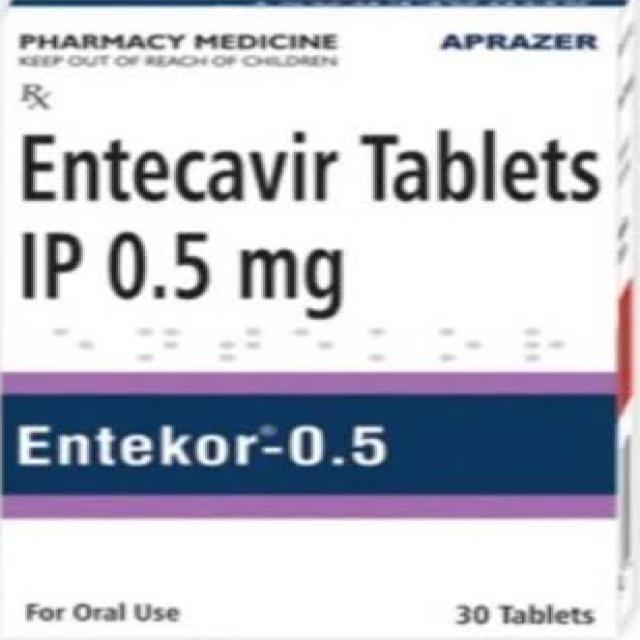drug-name: (15, 405, 394, 483)
